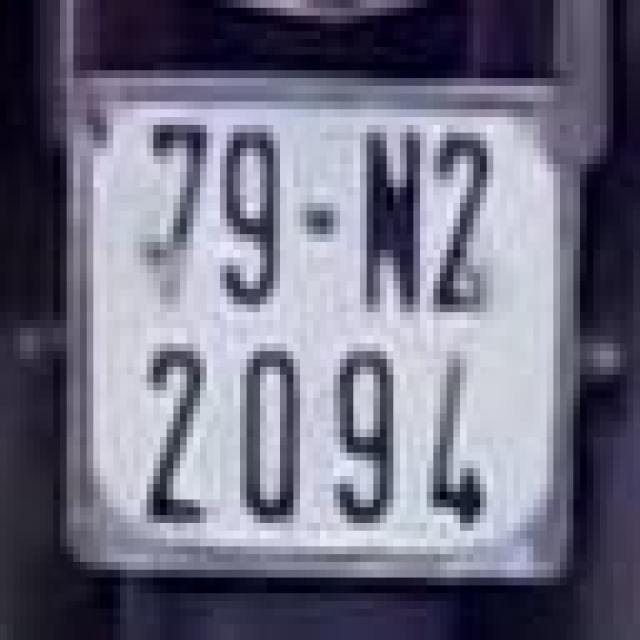0: (237, 336, 303, 515)
2: (136, 332, 216, 527), (437, 113, 503, 324)
4: (420, 347, 500, 535)
7: (140, 109, 213, 312)
9: (223, 109, 290, 320), (330, 339, 403, 527)
M: (350, 117, 430, 312)
